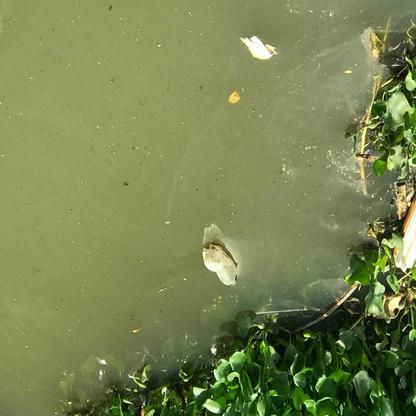plastic bottle: (202, 242, 239, 287)
